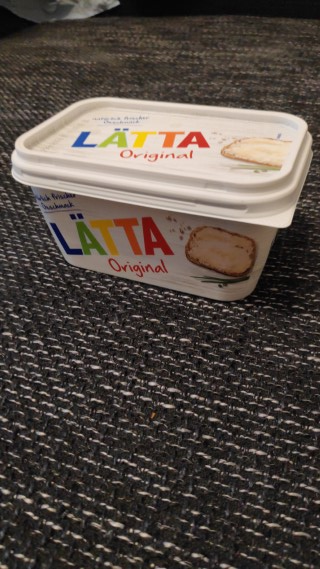laetta: (10, 94, 313, 303)
